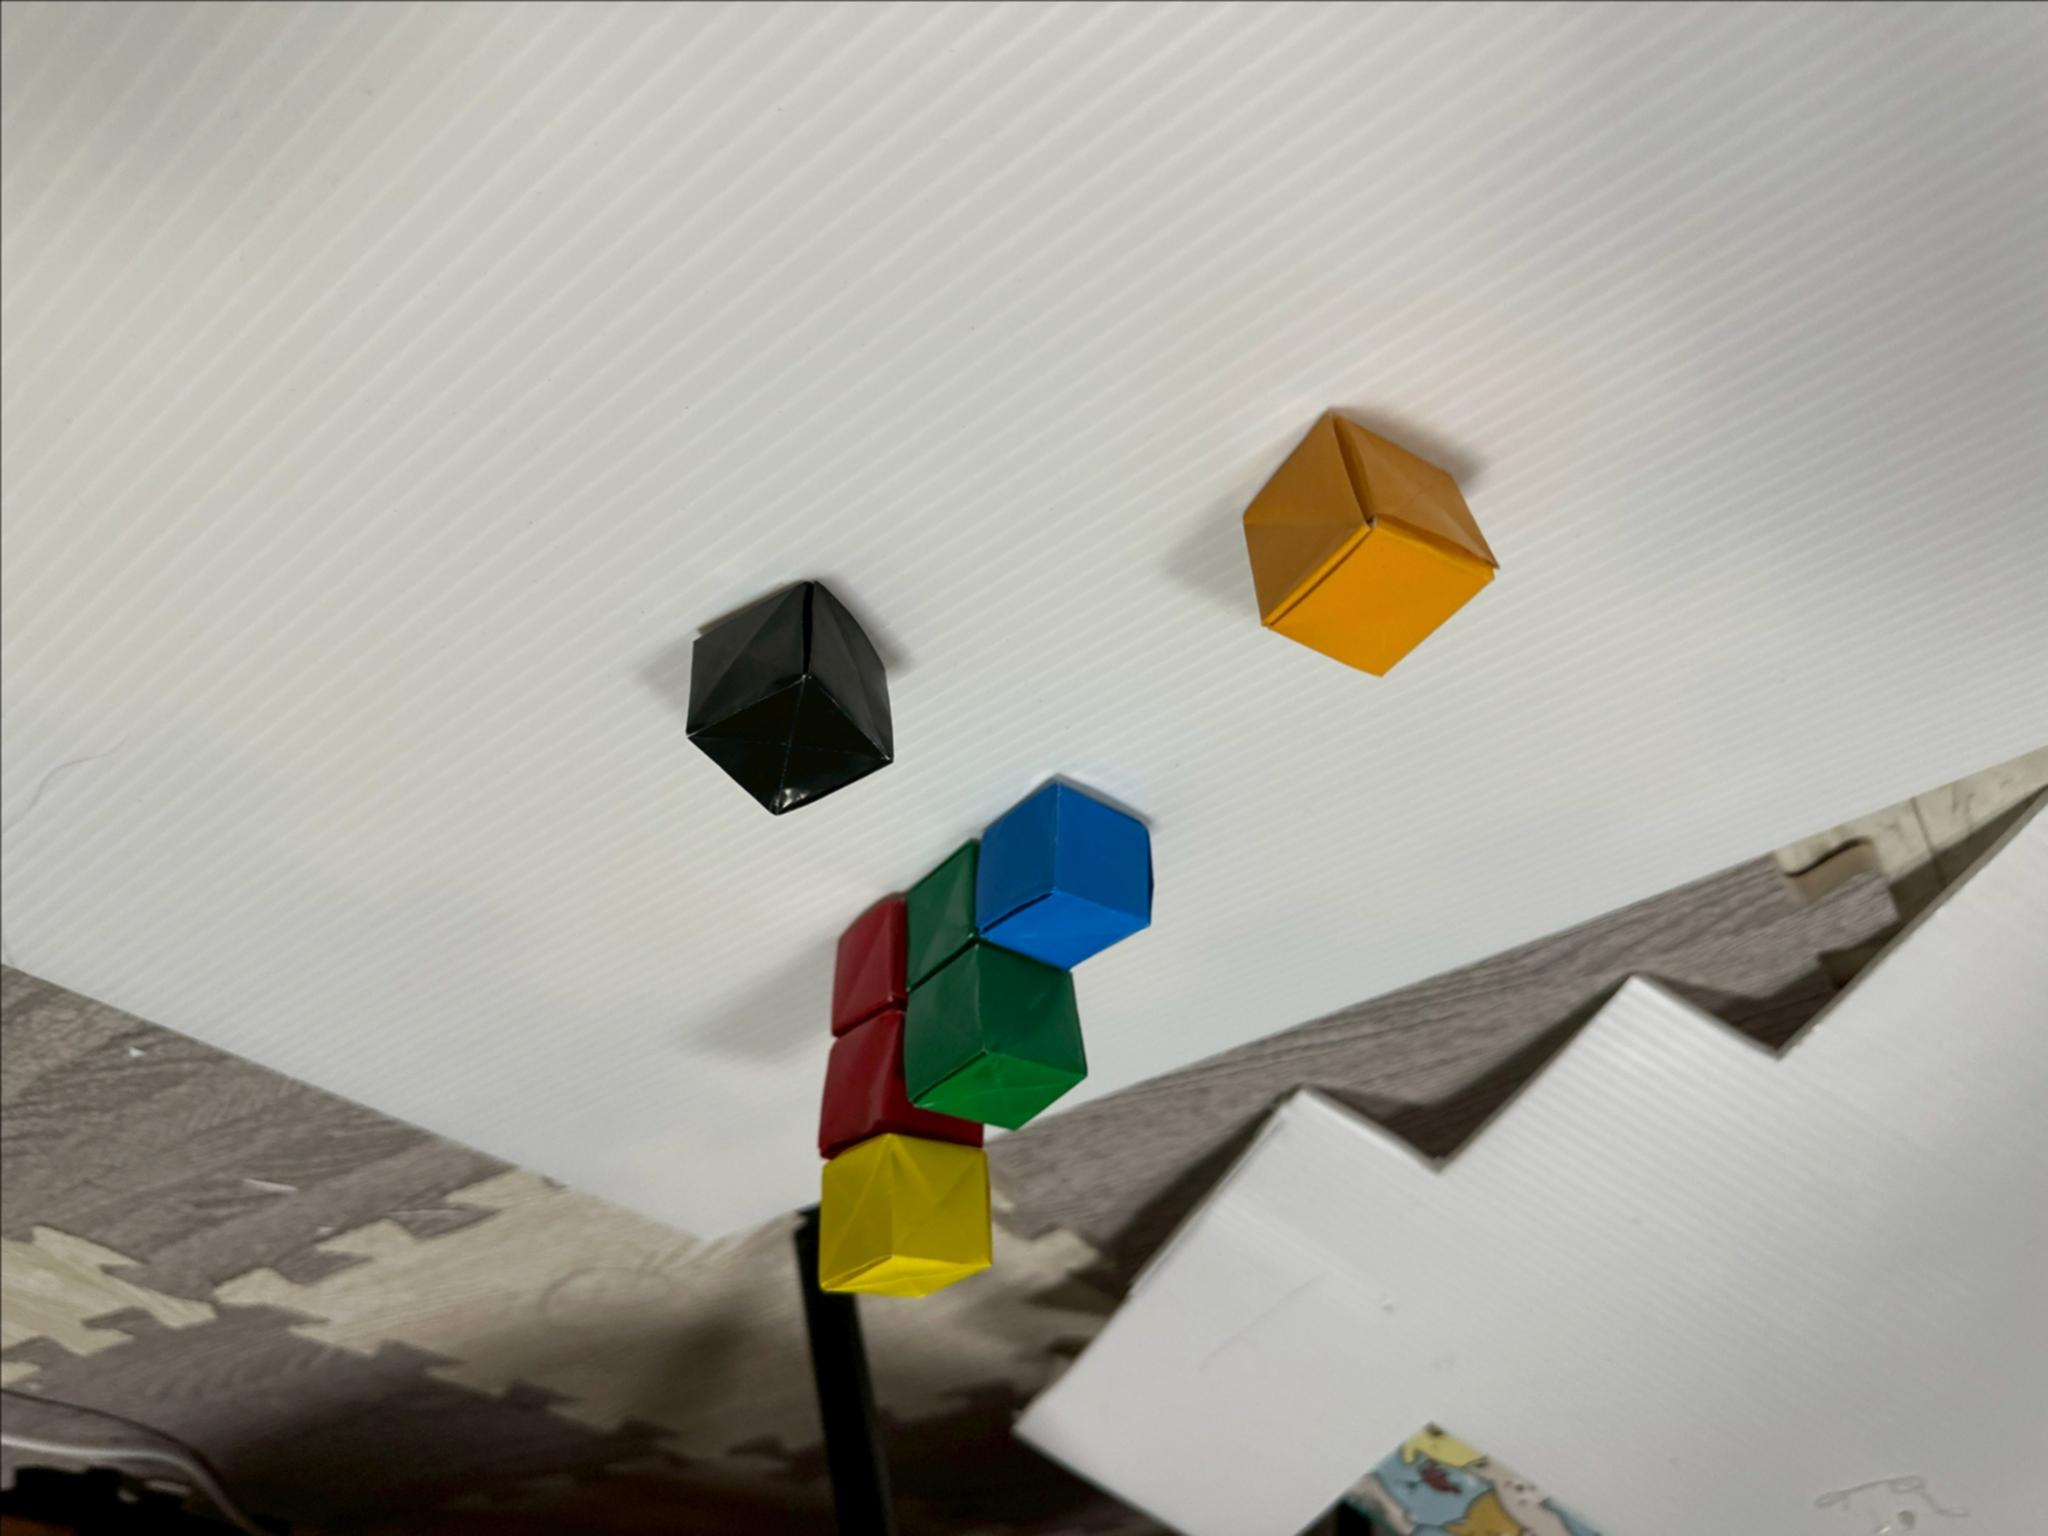cube: (1243, 415, 1495, 674), (687, 582, 892, 813), (905, 942, 1085, 1128), (976, 781, 1150, 968), (818, 1133, 990, 1296), (818, 1010, 984, 1158), (906, 841, 979, 992), (830, 895, 906, 1036)
